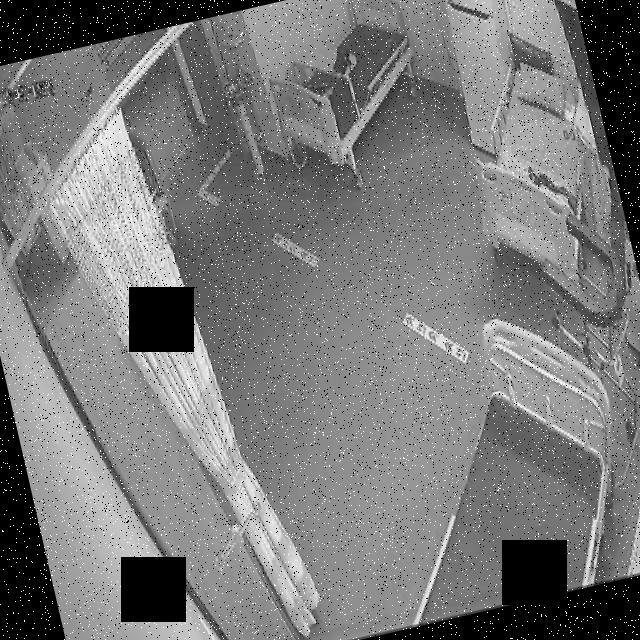bed: (350, 298, 640, 624), (442, 32, 619, 286), (252, 0, 436, 177)
